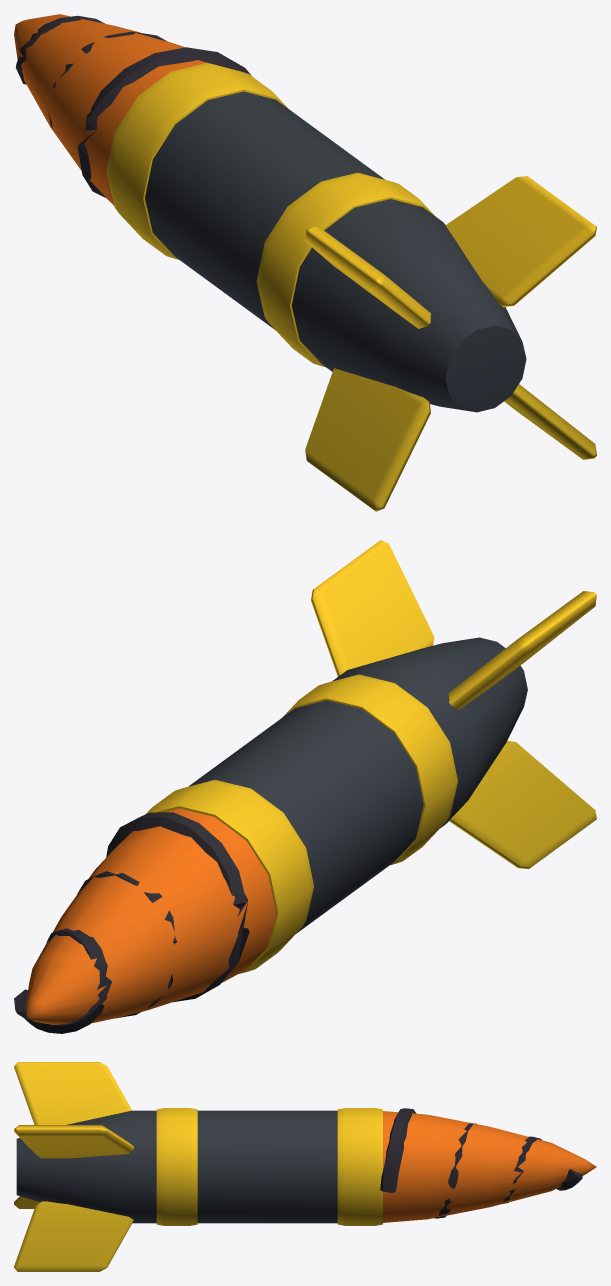
Rendered from bomb-penetrator.glb.
The picture shows the model from 3 angles, top to bottom: view 1: azimuth 30°, elevation 25°; view 2: azimuth 150°, elevation 25°; view 3: azimuth 270°, elevation 25°; orthographic projection. The views are drawn at different scales.
Parts seen in each view (by area): view 1: bomb-penetrator Gunmetal, bomb-penetrator Hazard yellow, bomb-penetrator Drill orange, bomb-penetrator Ashen charcoal; view 2: bomb-penetrator Hazard yellow, bomb-penetrator Gunmetal, bomb-penetrator Drill orange, bomb-penetrator Ashen charcoal; view 3: bomb-penetrator Hazard yellow, bomb-penetrator Gunmetal, bomb-penetrator Drill orange, bomb-penetrator Ashen charcoal.
Boxes of the visible parts, bbox=[...] form: bomb-penetrator Gunmetal: bbox=[145, 91, 526, 412]; bomb-penetrator Hazard yellow: bbox=[106, 62, 596, 511]; bomb-penetrator Drill orange: bbox=[14, 14, 206, 205]; bomb-penetrator Ashen charcoal: bbox=[15, 15, 251, 197]; bomb-penetrator Hazard yellow: bbox=[146, 540, 596, 974]; bomb-penetrator Gunmetal: bbox=[188, 637, 527, 933]; bomb-penetrator Drill orange: bbox=[25, 808, 275, 1024]; bomb-penetrator Ashen charcoal: bbox=[14, 812, 249, 1033]; bomb-penetrator Hazard yellow: bbox=[14, 1062, 382, 1271]; bomb-penetrator Gunmetal: bbox=[16, 1110, 337, 1223]; bomb-penetrator Drill orange: bbox=[383, 1111, 596, 1222]; bomb-penetrator Ashen charcoal: bbox=[380, 1108, 582, 1218].
Bounding box in the file's own units: 0.3861 × 0.3861 × 1.42.
4 materials, 4 textured.
